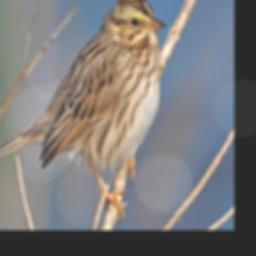Sparrow: (0, 0, 166, 228)
